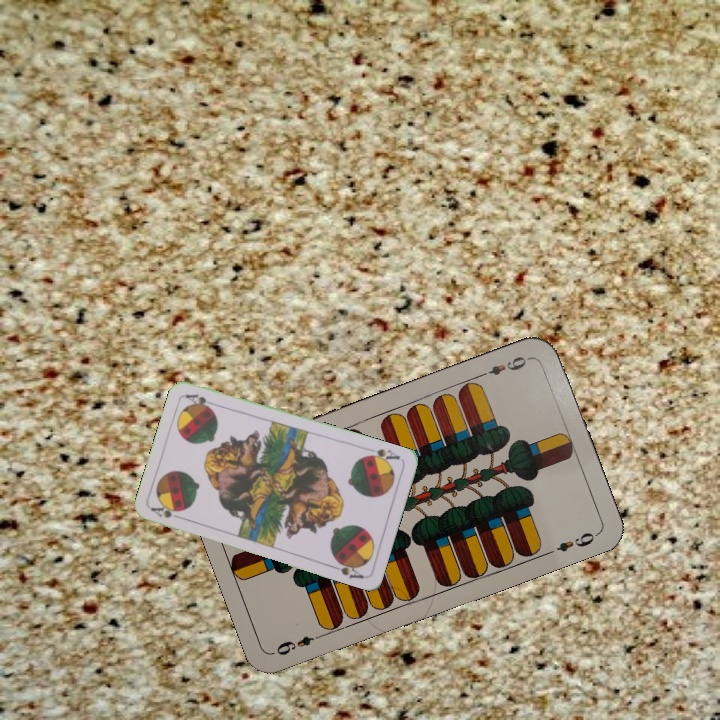E9: (272, 629, 328, 658), (476, 352, 533, 380)
SA: (361, 444, 403, 466), (147, 501, 187, 522)
